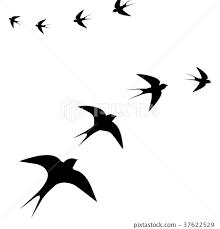bird: (122, 67, 168, 114), (181, 62, 214, 95), (63, 5, 93, 32), (27, 16, 52, 40)
